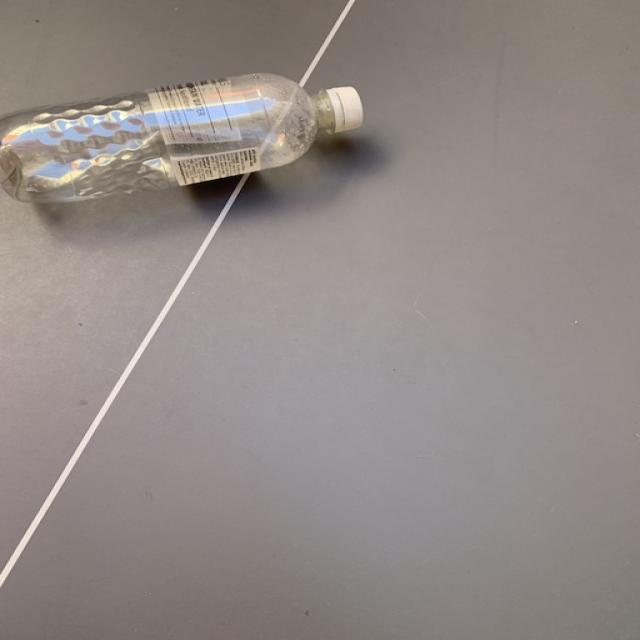PET: (0, 68, 364, 208)
